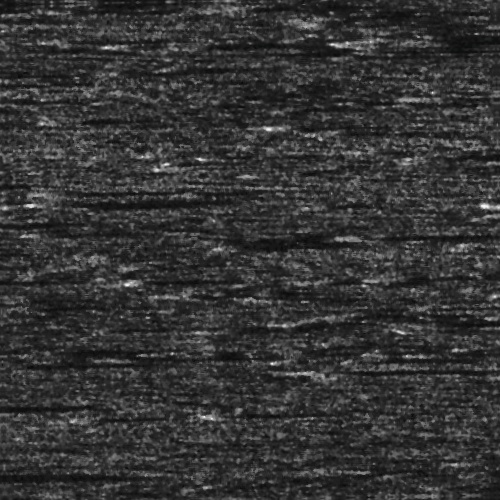object: (341, 33, 456, 52), (374, 320, 499, 329), (97, 271, 180, 280), (0, 196, 105, 203), (330, 235, 403, 242), (281, 369, 344, 376), (470, 202, 500, 211), (0, 355, 29, 364), (432, 497, 495, 500)
shadow: (399, 33, 500, 52), (0, 355, 180, 364), (53, 196, 243, 203), (139, 271, 269, 280), (0, 395, 121, 404), (0, 462, 69, 477), (313, 369, 448, 376), (367, 235, 500, 242), (215, 410, 349, 415), (437, 320, 500, 329), (0, 175, 60, 182), (62, 184, 190, 187), (0, 273, 56, 276)
